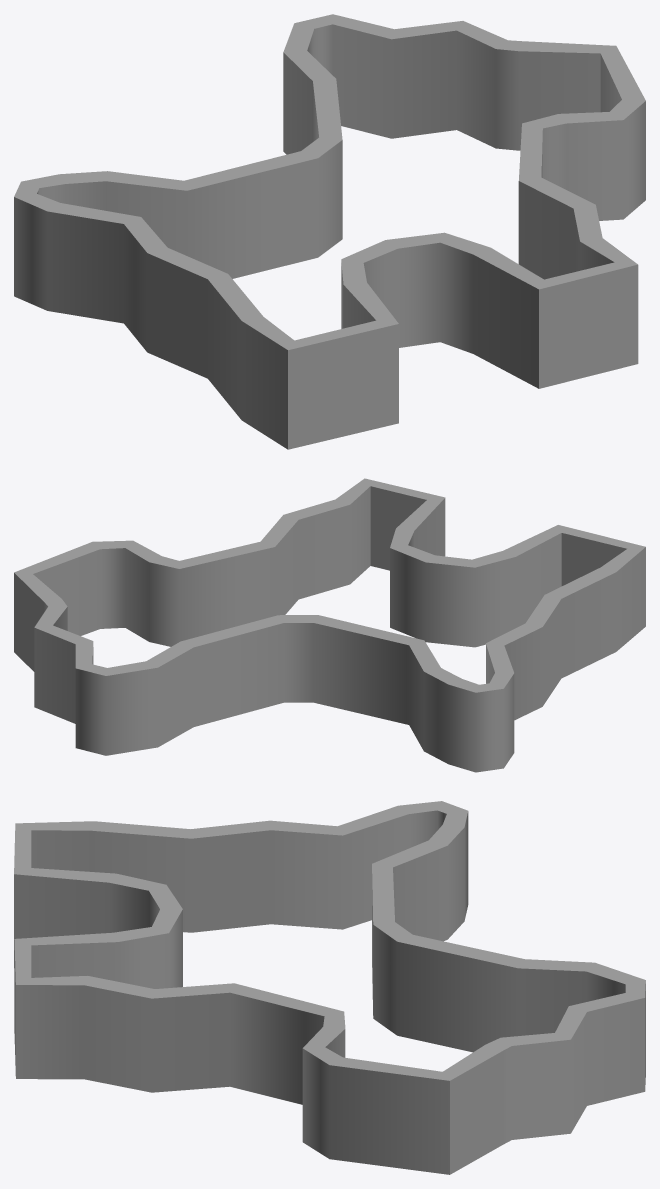
File: BiscuitCutter_Dog_01.fbx
3 renders of one model, top to bottom at view 1: azimuth 30°, elevation 25°; view 2: azimuth 150°, elevation 25°; view 3: azimuth 270°, elevation 25°, orthographic. The views are drawn at different scales.
Parts seen in each view (by area): view 1: BiscuitCutter_Dog_01; view 2: BiscuitCutter_Dog_01; view 3: BiscuitCutter_Dog_01.
Part boxes in pixels (left/top/right/bottom): BiscuitCutter_Dog_01: left=14, top=14, right=645, bottom=449; BiscuitCutter_Dog_01: left=14, top=478, right=645, bottom=772; BiscuitCutter_Dog_01: left=14, top=801, right=645, bottom=1174.
Bounding box in the file's own units: 0.0814 × 0.0128 × 0.0777.
